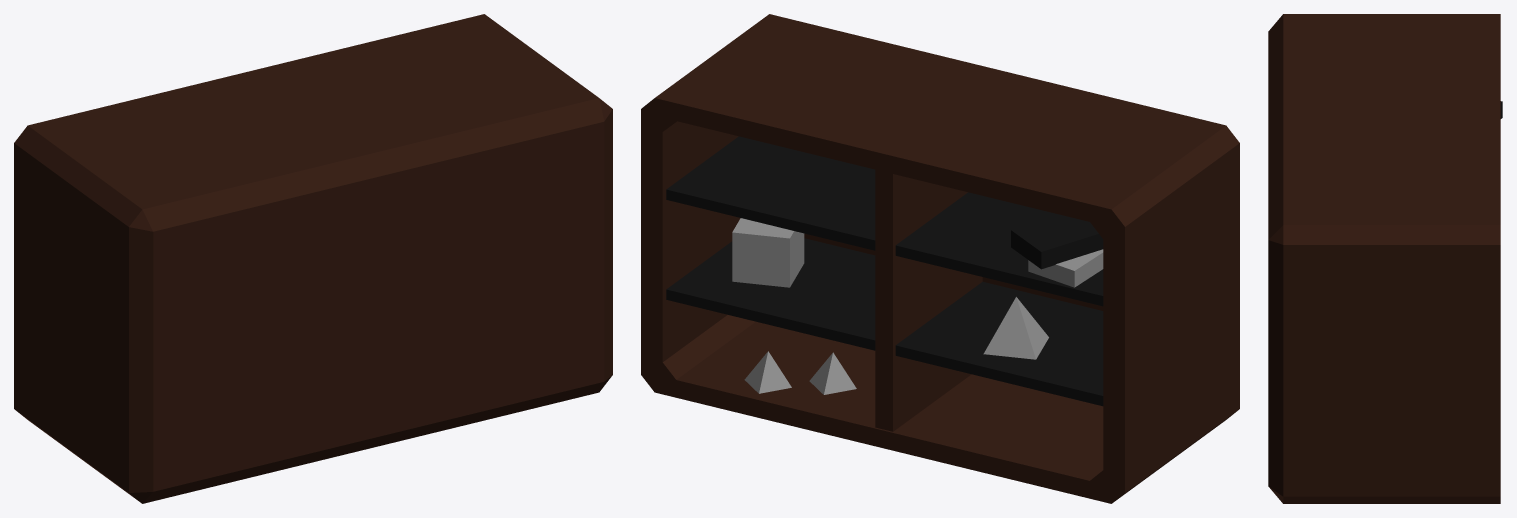
The model's file is mesh_shelf_01.fbx.
3 views of the same model, side by side, from view 1: azimuth 30°, elevation 25°; view 2: azimuth 150°, elevation 25°; view 3: azimuth 270°, elevation 25° (orthographic). The views are drawn at different scales.
Visible parts, largest first — view 1: mesh_shelf_01; view 2: mesh_shelf_01, mesh_shelf_03, mesh_shelf_02; view 3: mesh_shelf_01.
Part boxes in pixels (x1,y1,x2,y2): mesh_shelf_01: [14, 14, 612, 503]; mesh_shelf_01: [641, 14, 1239, 503]; mesh_shelf_03: [666, 136, 1103, 406]; mesh_shelf_02: [732, 214, 1103, 394]; mesh_shelf_01: [1268, 14, 1500, 503].
Bounding box in the file's own units: 16.35 × 9.5 × 7.24.
